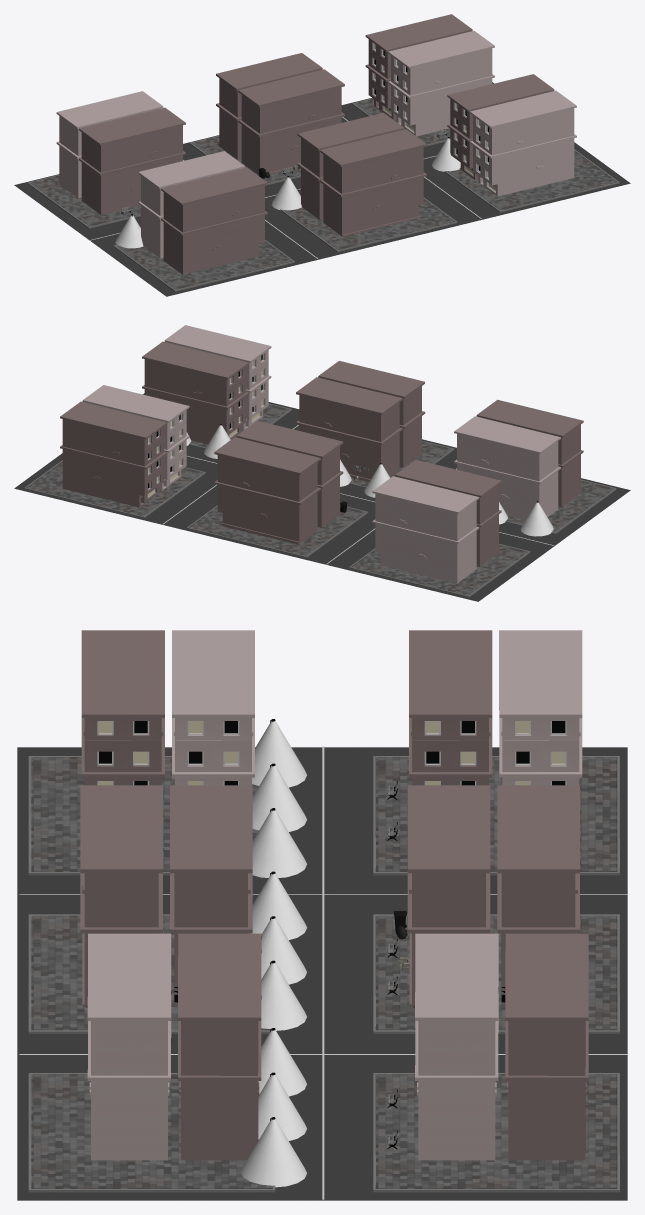
The model's file is Colleuses.fbx.
3 views of the same model, one above another, from view 1: azimuth 30°, elevation 25°; view 2: azimuth 150°, elevation 25°; view 3: azimuth 270°, elevation 25° (orthographic). The views are drawn at different scales.
Visible parts, largest first — view 1: Trottoirs, new_immeubles_1_0, new_immeubles_1_1, Route_new_1, Immeuble1_2, clair_1, Immeuble1_2_3, clair_1_2, Immeuble1_2_2, Immeuble1, sombre_1_2, sombre_1 (+3 smaller); view 2: new_immeubles_1_1, Trottoirs, new_immeubles_1_0, Route_new_1, Immeuble1_2_2, sombre_1_2, Immeuble1, sombre_1, Immeuble1_2, Immeuble1_2_3, clair_1_2, clair_1 (+3 smaller); view 3: Trottoirs, Route_new_1, new_immeubles_1_1, new_immeubles_1_0, clair_1_2, sombre_1_2, clair_1, sombre_1, Immeuble1_2, Immeuble1_2_2, Immeuble1_2_3, Immeuble1 (+9 smaller).
Part boxes in pixels (bbox=[...]): Trottoirs: bbox=[27, 98, 619, 291]; new_immeubles_1_0: bbox=[297, 112, 426, 236]; new_immeubles_1_1: bbox=[216, 53, 344, 175]; Route_new_1: bbox=[14, 82, 630, 296]; Immeuble1_2: bbox=[161, 167, 267, 274]; clair_1: bbox=[470, 90, 576, 196]; Immeuble1_2_3: bbox=[79, 107, 185, 214]; clair_1_2: bbox=[388, 30, 494, 136]; Immeuble1_2_2: bbox=[56, 91, 163, 198]; Immeuble1: bbox=[138, 151, 245, 258]; sombre_1_2: bbox=[365, 14, 472, 119]; sombre_1: bbox=[447, 74, 554, 179]; new_immeubles_1_1: bbox=[214, 420, 343, 544]; Trottoirs: bbox=[24, 403, 616, 597]; new_immeubles_1_0: bbox=[296, 361, 425, 481]; Route_new_1: bbox=[14, 393, 630, 601]; Immeuble1_2_2: bbox=[372, 476, 479, 583]; sombre_1_2: bbox=[60, 401, 166, 507]; Immeuble1: bbox=[454, 416, 560, 520]; sombre_1: bbox=[142, 341, 248, 444]; Immeuble1_2: bbox=[476, 399, 583, 506]; Immeuble1_2_3: bbox=[395, 459, 501, 566]; clair_1_2: bbox=[82, 385, 189, 490]; clair_1: bbox=[164, 325, 271, 430]; Trottoirs: bbox=[28, 756, 619, 1192]; Route_new_1: bbox=[17, 746, 627, 1200]; new_immeubles_1_1: bbox=[407, 785, 579, 1007]; new_immeubles_1_0: bbox=[80, 785, 252, 1007]; clair_1_2: bbox=[415, 933, 498, 1160]; sombre_1_2: bbox=[505, 933, 588, 1160]; clair_1: bbox=[87, 933, 171, 1160]; sombre_1: bbox=[178, 933, 261, 1160]; Immeuble1_2: bbox=[81, 630, 164, 785]; Immeuble1_2_2: bbox=[499, 630, 582, 785]; Immeuble1_2_3: bbox=[409, 630, 492, 785]; Immeuble1: bbox=[172, 630, 254, 785].
Size of the model in its own units: 2036 by 309 by 1158.
Materials: 25 (23 with a texture image).
